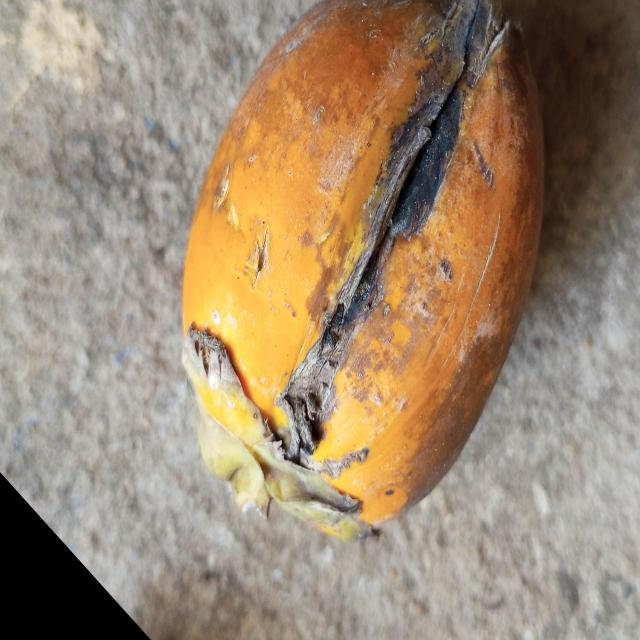damaged: (183, 0, 543, 539)
